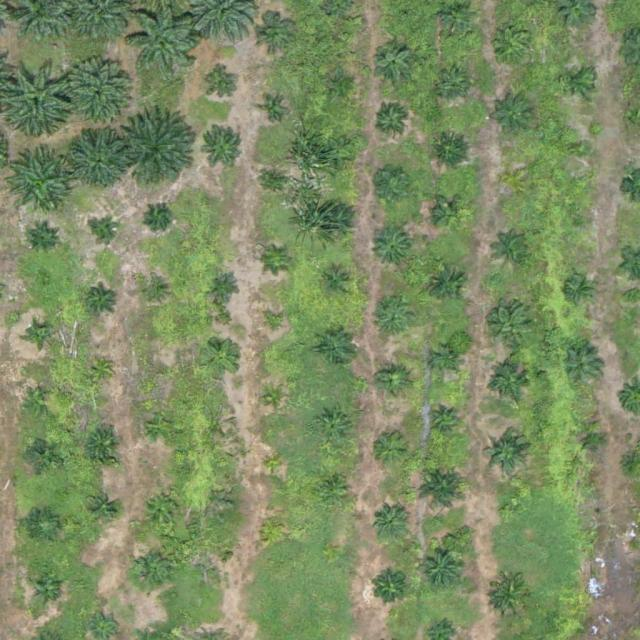Healthy: (123, 113, 201, 191), (60, 59, 131, 129), (4, 152, 74, 223), (130, 5, 200, 75), (67, 128, 129, 191), (416, 463, 470, 518), (326, 139, 357, 171), (434, 349, 457, 373)
Small: (484, 432, 531, 479), (418, 544, 465, 591), (200, 123, 247, 170), (367, 163, 414, 210), (370, 430, 409, 470), (372, 228, 411, 268), (372, 503, 411, 543), (564, 347, 604, 386), (491, 364, 530, 404), (492, 308, 532, 347), (143, 489, 182, 529), (318, 328, 358, 367), (316, 409, 355, 449), (319, 203, 359, 242), (254, 15, 294, 54), (373, 42, 412, 82), (494, 96, 534, 135), (431, 130, 470, 170), (494, 27, 533, 67), (203, 339, 242, 379), (373, 301, 412, 340), (371, 568, 410, 607), (429, 266, 468, 305), (491, 577, 530, 616), (496, 232, 535, 271), (132, 550, 171, 589), (84, 426, 123, 465), (30, 511, 61, 543), (322, 268, 353, 300), (28, 437, 59, 469), (209, 71, 240, 103), (562, 65, 593, 97), (578, 426, 609, 458), (88, 492, 119, 524), (33, 575, 64, 607), (378, 368, 409, 399), (435, 199, 466, 230), (565, 275, 596, 306), (28, 223, 59, 254), (87, 285, 118, 316), (318, 473, 349, 504), (378, 106, 409, 137), (436, 70, 467, 101), (210, 271, 241, 302), (147, 412, 178, 443), (24, 387, 55, 418), (428, 406, 458, 438), (268, 249, 292, 273), (147, 204, 171, 228), (330, 72, 354, 96), (264, 312, 288, 336), (262, 387, 286, 411), (264, 454, 288, 478), (261, 516, 285, 540), (90, 358, 114, 382), (29, 324, 53, 348), (96, 220, 119, 244), (144, 282, 167, 306), (151, 362, 174, 386), (203, 549, 226, 573), (263, 101, 286, 124), (265, 169, 288, 192), (507, 174, 523, 190), (573, 140, 588, 156), (501, 504, 517, 519), (399, 10, 415, 25), (573, 213, 588, 228)
